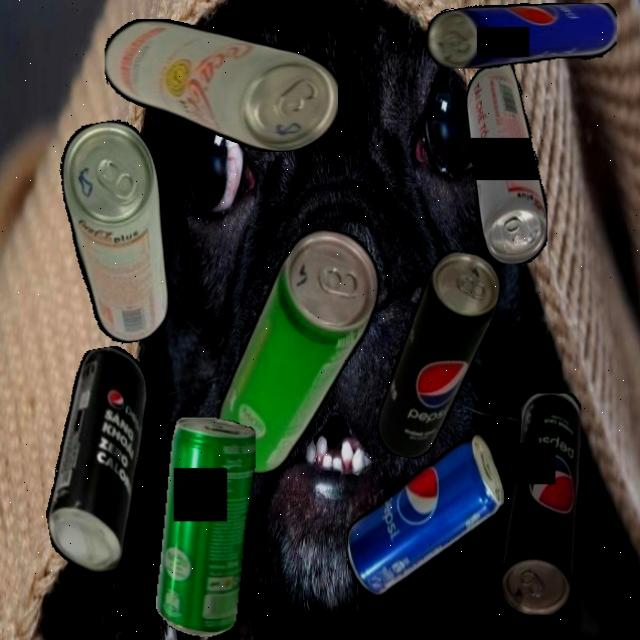debris: (210, 217, 388, 489), (20, 342, 178, 591), (52, 115, 185, 349), (104, 19, 338, 152), (373, 243, 505, 468), (346, 433, 504, 594), (156, 417, 256, 637), (499, 392, 581, 615), (466, 55, 547, 264), (426, 2, 617, 68)
